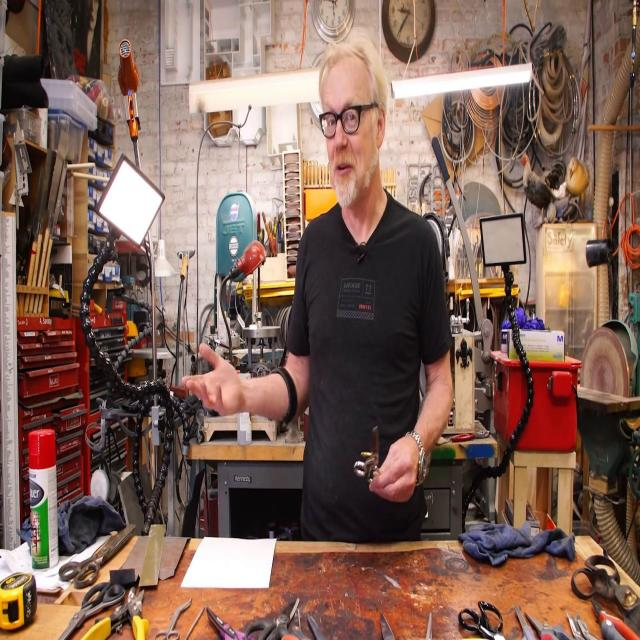scissor: (570, 553, 640, 639), (59, 523, 135, 591), (58, 580, 126, 640), (244, 597, 300, 640), (459, 599, 506, 640), (355, 426, 382, 484), (206, 608, 253, 640), (156, 599, 192, 640), (527, 610, 574, 640), (282, 608, 309, 640), (514, 604, 536, 640)
